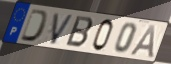0: (113, 21, 138, 55), (91, 18, 115, 52)
A: (128, 24, 157, 60)
B: (64, 14, 95, 49)
D: (18, 8, 50, 44)
V: (49, 11, 76, 46)
